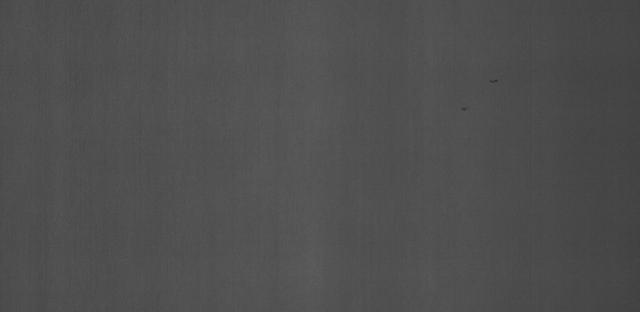inclusion: (454, 92, 478, 124), (477, 72, 508, 92)
